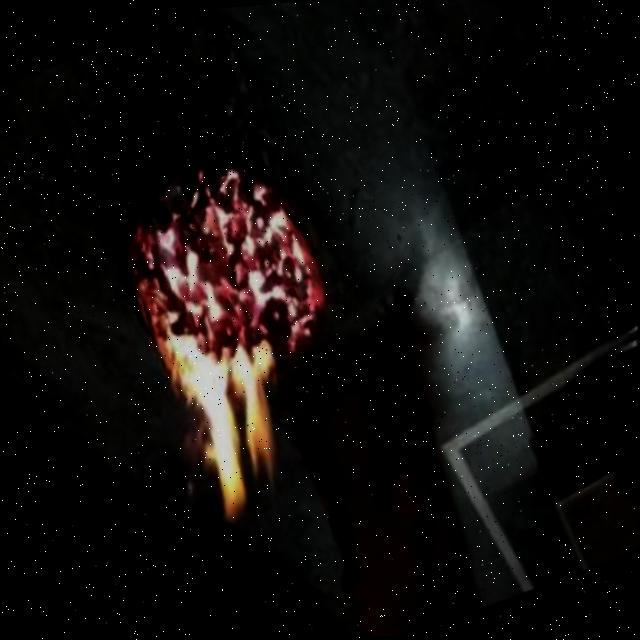fire: (125, 186, 307, 536), (221, 154, 359, 378)
